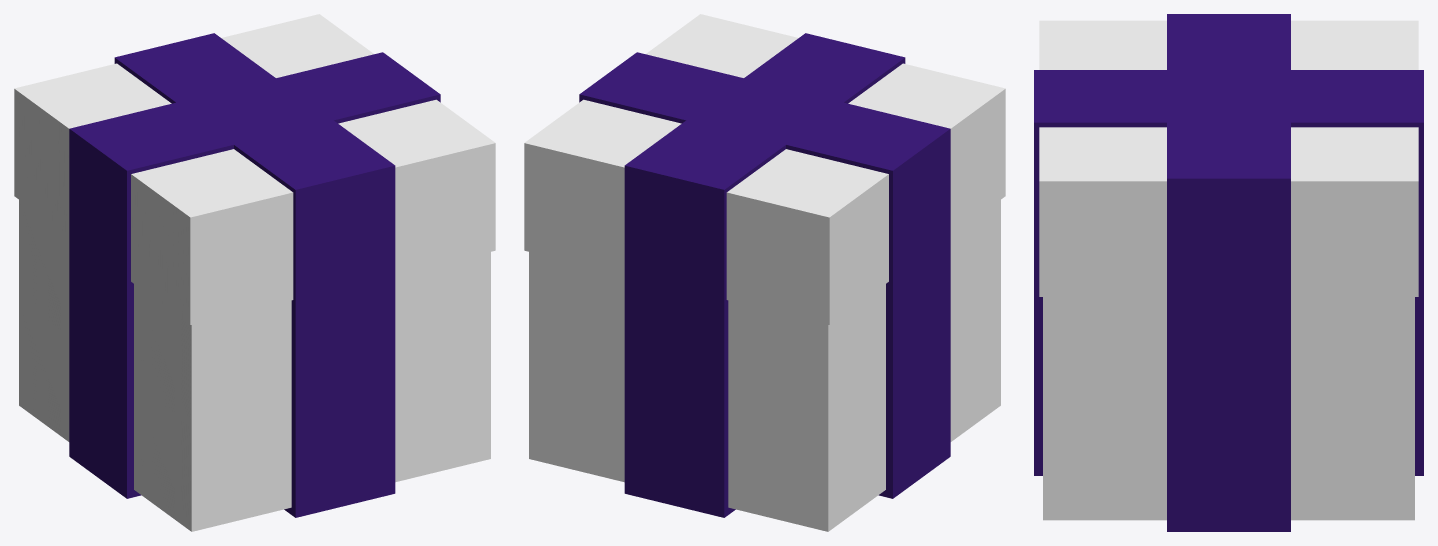
The model's file is cadeau.dae.
The picture shows the model from 3 angles, left to right: view 1: azimuth 30°, elevation 25°; view 2: azimuth 150°, elevation 25°; view 3: azimuth 270°, elevation 25°; orthographic projection. The views are drawn at different scales.
Visible parts, largest first — view 1: Cube; view 2: Cube; view 3: Cube.
Part boxes in pixels (x1=…): Cube: x1=14, y1=14, x2=495, y2=531; Cube: x1=524, y1=14, x2=1005, y2=531; Cube: x1=1034, y1=14, x2=1423, y2=531.
Bounding box in the file's own units: 52.36 × 52.36 × 52.36.
